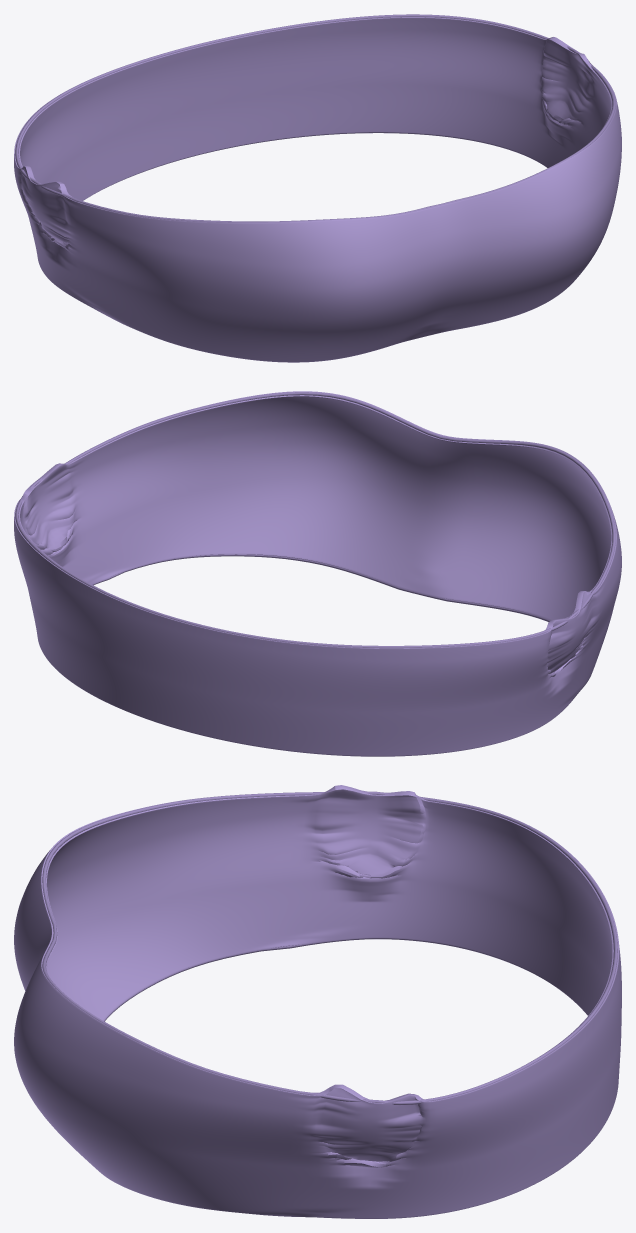
File: Feminine-bandeau-top.glb
3 renders of one model, top to bottom at view 1: azimuth 30°, elevation 25°; view 2: azimuth 150°, elevation 25°; view 3: azimuth 270°, elevation 25°, orthographic. The views are drawn at different scales.
Parts seen in each view (by area): view 1: Clothing / Bandeau, Bandeau / bound edge.001 export, Bandeau / bound edge export; view 2: Clothing / Bandeau, Bandeau / bound edge.001 export, Bandeau / bound edge export; view 3: Clothing / Bandeau, Bandeau / bound edge.001 export, Bandeau / bound edge export.
Part boxes in pixels (x1,y1,x2,y2): Clothing / Bandeau: (14, 17, 621, 362); Bandeau / bound edge.001 export: (15, 14, 615, 222); Bandeau / bound edge export: (106, 132, 542, 187); Clothing / Bandeau: (14, 391, 621, 756); Bandeau / bound edge.001 export: (15, 392, 615, 648); Bandeau / bound edge export: (93, 554, 549, 756); Clothing / Bandeau: (14, 785, 621, 1218); Bandeau / bound edge.001 export: (42, 791, 617, 1105); Bandeau / bound edge export: (104, 938, 542, 1218).
Bounding box in the file's own units: 0.6458 × 0.1812 × 0.5334.
